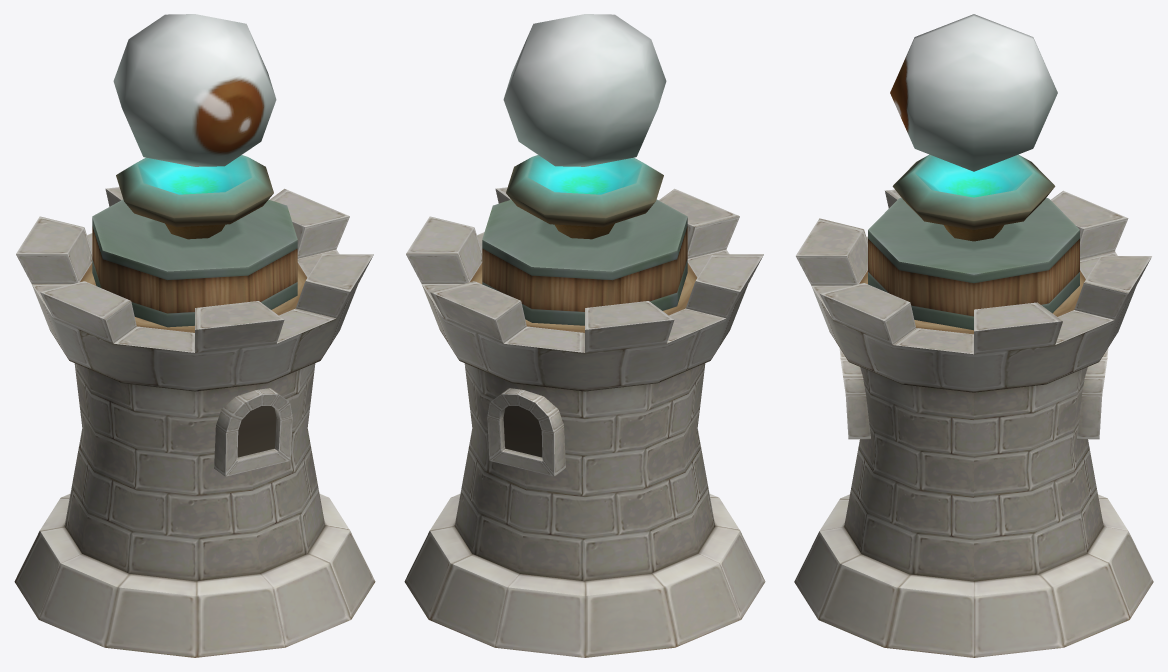
File: Tower04.FBX
3 renders of one model, left to right at view 1: azimuth 30°, elevation 25°; view 2: azimuth 150°, elevation 25°; view 3: azimuth 270°, elevation 25°, orthographic.
Visible parts, largest first — view 1: Tower, EyeBar, Eye; view 2: Tower, EyeBar, Eye; view 3: Tower, EyeBar, Eye.
Part boxes in pixels (left/top/right/bottom): Tower: left=14, top=187, right=375, bottom=657; EyeBar: left=92, top=155, right=297, bottom=327; Eye: left=113, top=14, right=276, bottom=166; Tower: left=404, top=187, right=765, bottom=657; EyeBar: left=482, top=155, right=687, bottom=325; Eye: left=503, top=14, right=666, bottom=166; Tower: left=794, top=189, right=1153, bottom=657; EyeBar: left=868, top=154, right=1079, bottom=330; Eye: left=890, top=14, right=1057, bottom=171.
Size of the model in its own units: 270 by 468 by 270.
